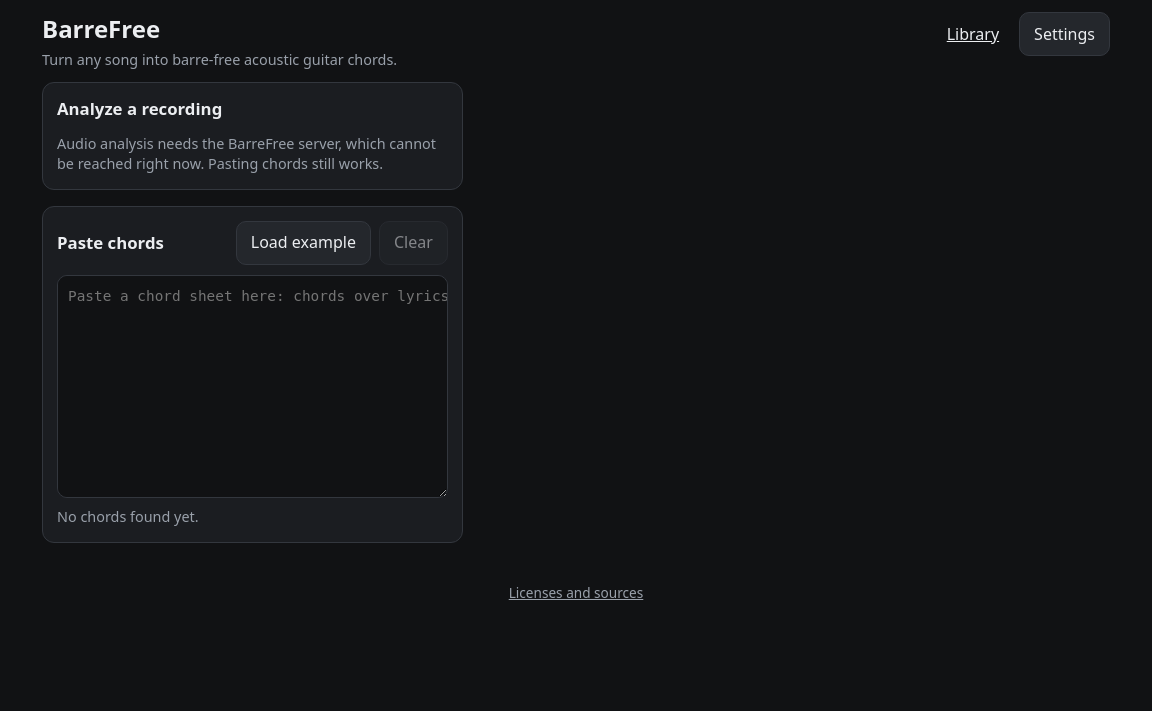
App › loads the example and clears it
What coordinates should you click on to do the following:
click the button "Load example"
I would click on:
 (303, 243)
Its box is [236, 221, 371, 265].
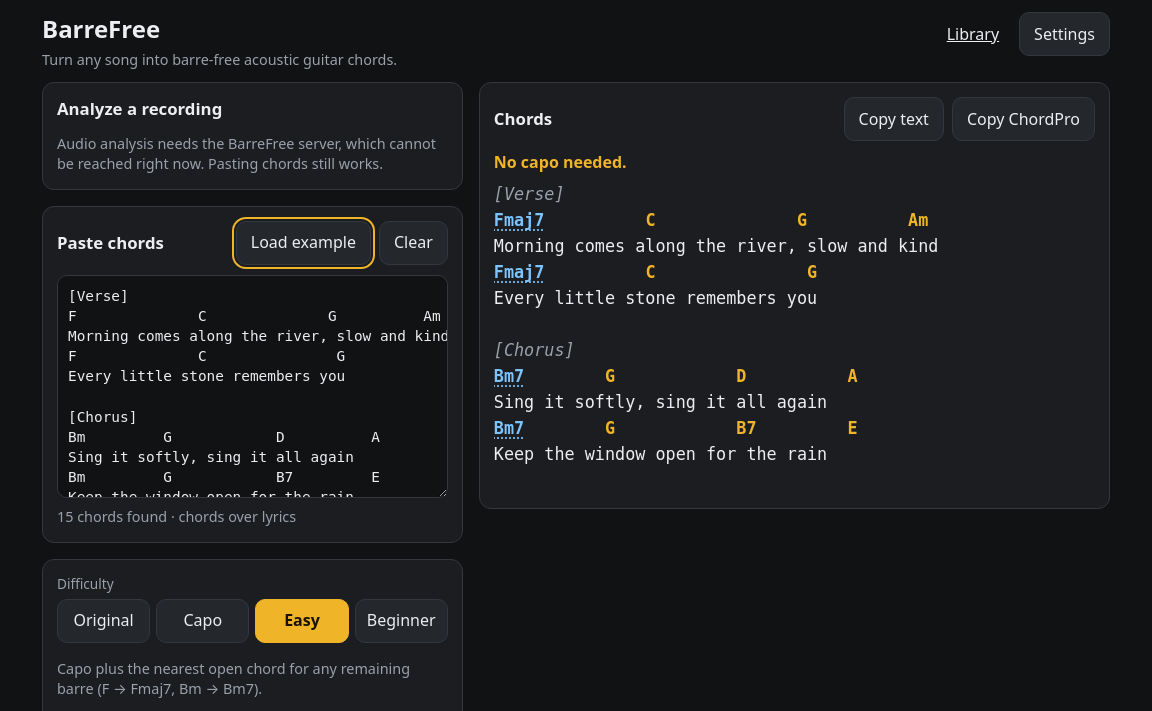
Expected: the element named "Chord sheet" shows "Fmaj7", [494, 207, 544, 233]
What coordinates should you click on to do the following:
click the button "Clear"
I would click on:
 (413, 243)
Its box is [379, 221, 448, 265].
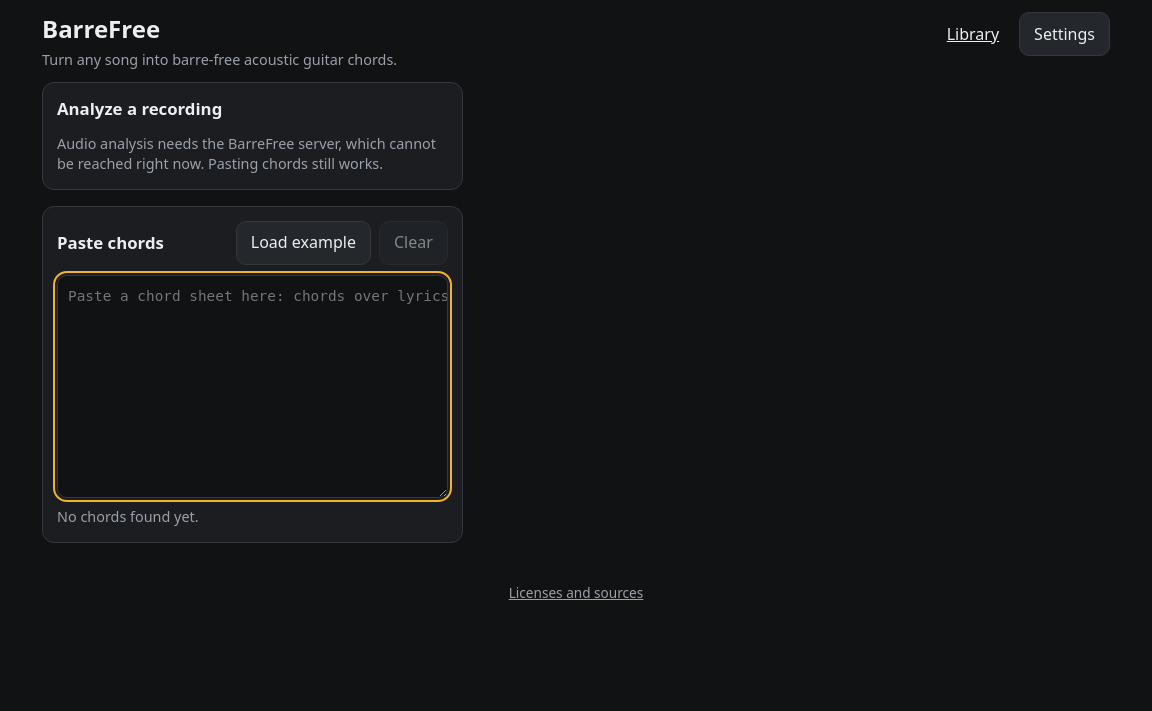
Expected: the text "No chords found yet." is shown, [57, 507, 199, 526]
